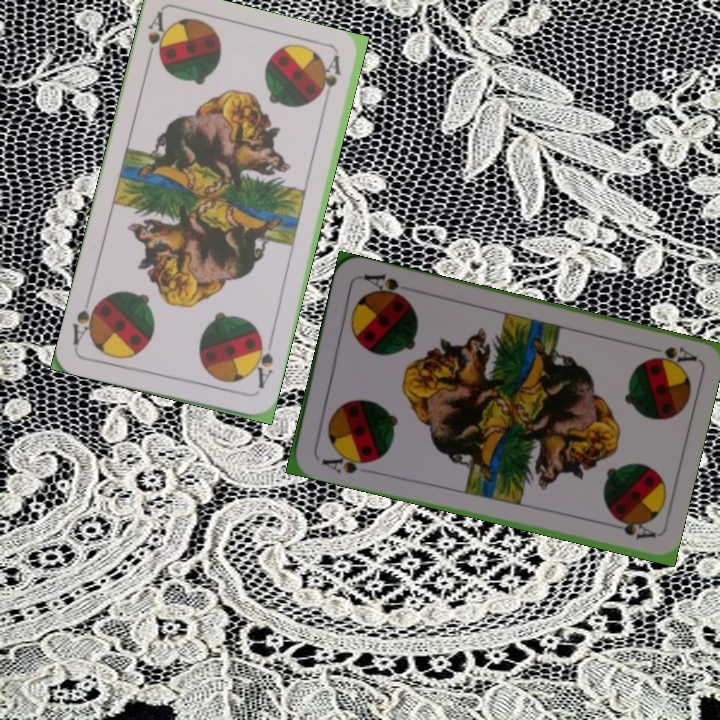SA: (142, 9, 172, 68), (639, 341, 698, 369), (248, 334, 276, 392), (317, 448, 374, 476)
